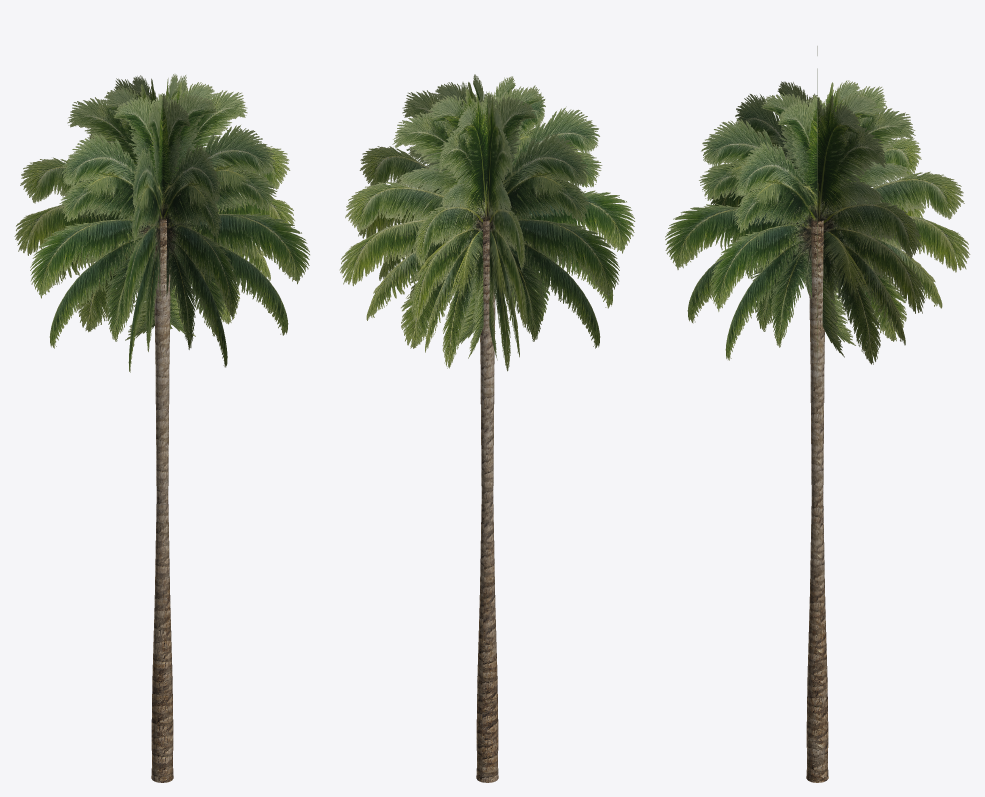
The model's file is palma-frontal.glb.
The picture shows the model from 3 angles, left to right: view 1: azimuth 30°, elevation 25°; view 2: azimuth 150°, elevation 25°; view 3: azimuth 270°, elevation 25°; orthographic projection.
Visible parts, largest first — view 1: Palm Leaves, Palm Stem; view 2: Palm Leaves, Palm Stem; view 3: Palm Leaves, Palm Stem.
Boxes of the visible parts, x1,y1,x2,y2 form: Palm Leaves: (14,74,309,372); Palm Stem: (151,219,173,782); Palm Leaves: (339,74,635,371); Palm Stem: (476,219,498,782); Palm Leaves: (665,46,970,379); Palm Stem: (806,220,828,782).
Size of the model in its own units: 3.75 by 9.44 by 3.75.
Materials: 1 (1 with a texture image).
